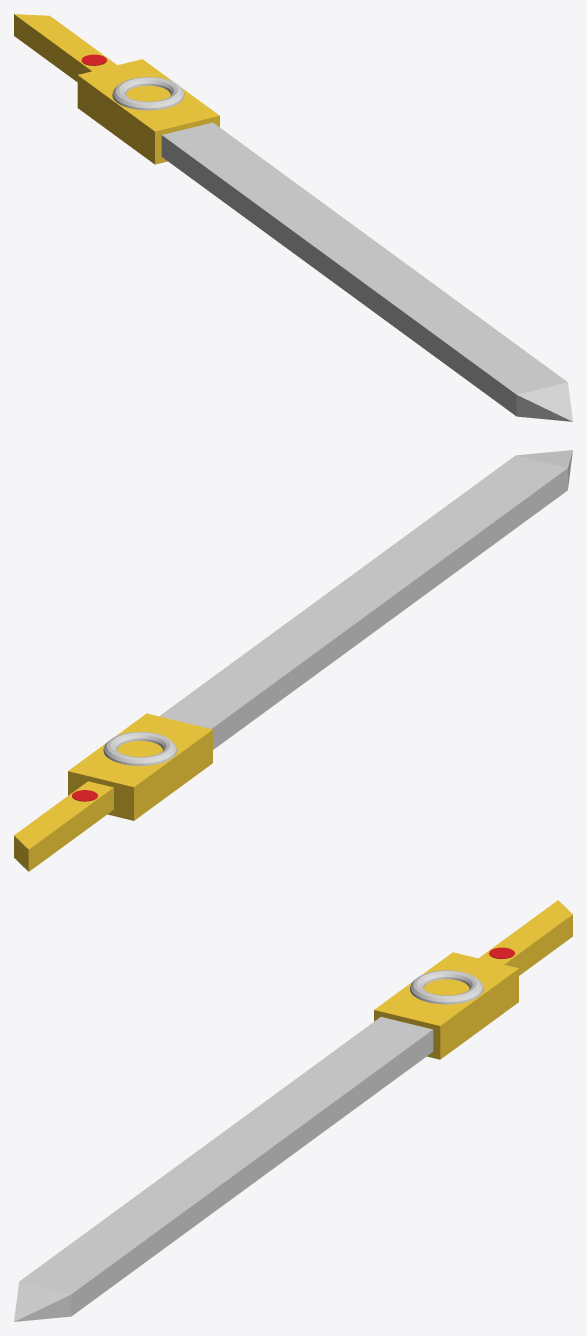
Rendered from Gladius.fbx.
3 renders of one model, top to bottom at view 1: azimuth 30°, elevation 25°; view 2: azimuth 150°, elevation 25°; view 3: azimuth 330°, elevation 25°, orthographic.
Parts seen in each view (by area): view 1: Cube, Torus; view 2: Cube, Torus; view 3: Cube, Torus.
Boxes of the visible parts, x1=… form: Cube: x1=14, y1=14, x2=572, y2=421; Torus: x1=112, y1=77, x2=184, y2=110; Cube: x1=14, y1=450, x2=572, y2=871; Torus: x1=103, y1=732, x2=176, y2=765; Cube: x1=14, y1=900, x2=572, y2=1321; Torus: x1=410, y1=970, x2=483, y2=1004.
Size of the model in its own units: 100 by 56.56 by 1460.
